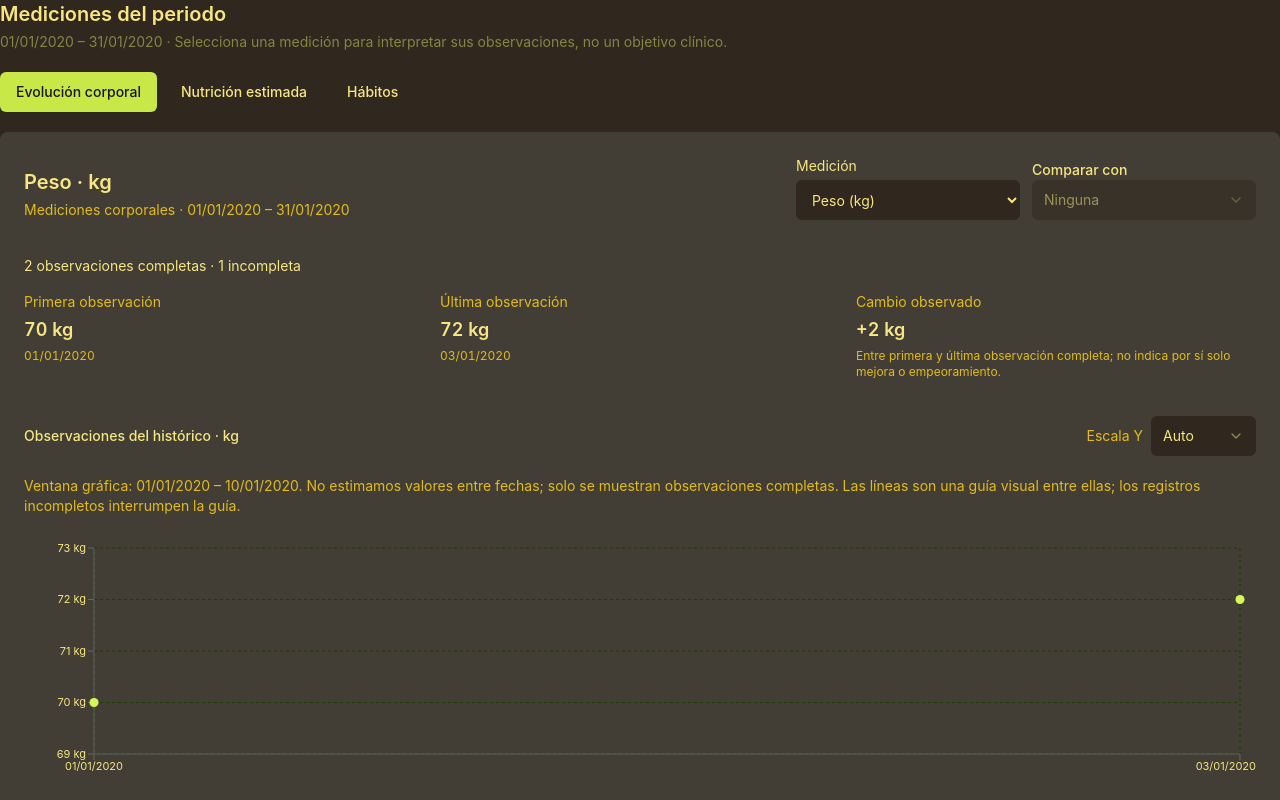
Test case: Métricas: interpretación y selección › prioriza una medición con cobertura, cambio neutral y ventana gráfica explícita
This screenshot has width=1280, height=800.
Check: the heading "Peso · kg" is shown, box [24, 170, 112, 194]
Check: the text "2 observaciones completas · 1 incompleta" is shown, box [24, 257, 301, 274]
Select "Sueño (h)" in the dropdown labelled "Medición" at (908, 200), box [796, 180, 1020, 220]
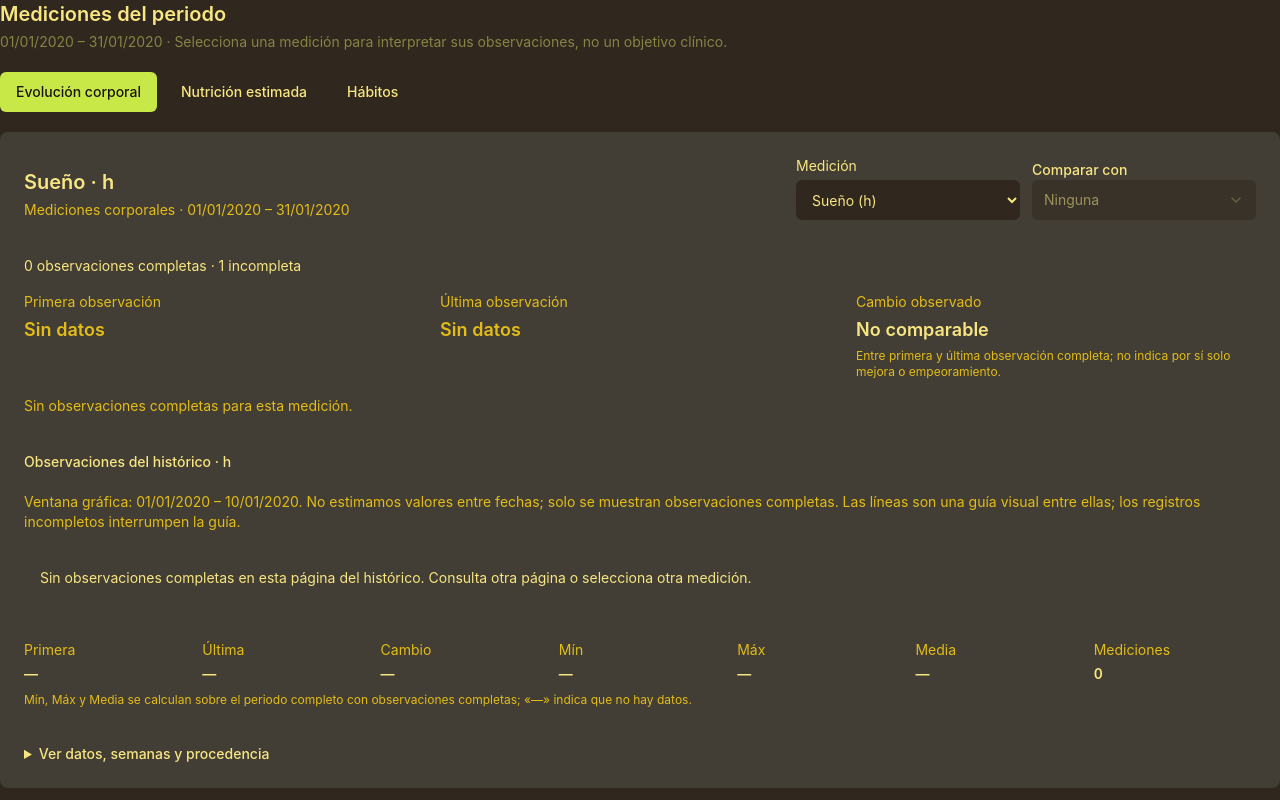
Check: the heading "Sueño · h" is shown, box [24, 170, 114, 194]
Check: the text "Sin observaciones completas para esta medición." is shown, box [24, 397, 352, 414]
